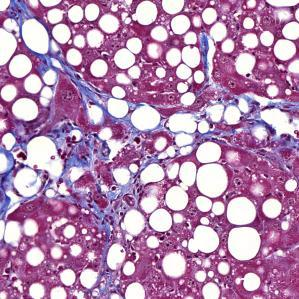fibrosis: (63, 128, 121, 174)
